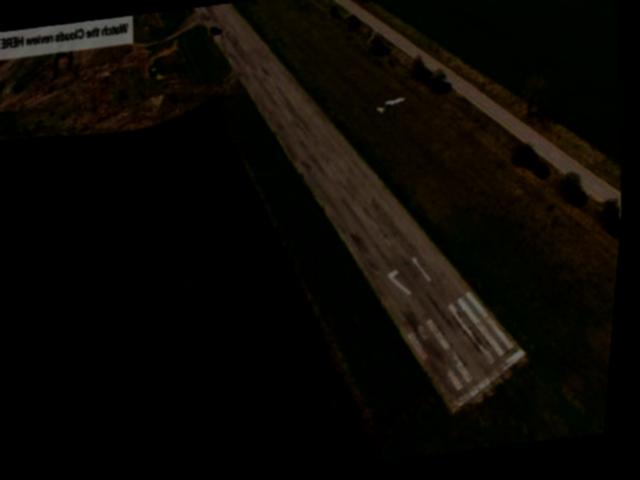uav: (375, 87, 417, 122)
